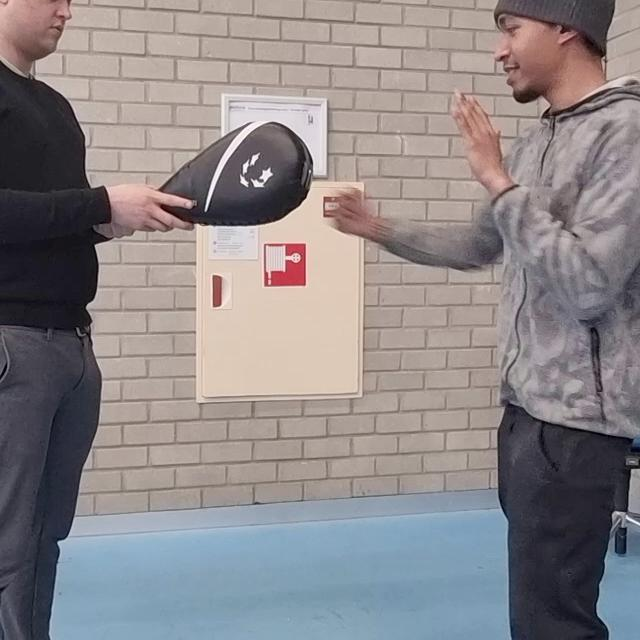paddle: (136, 118, 312, 227)
